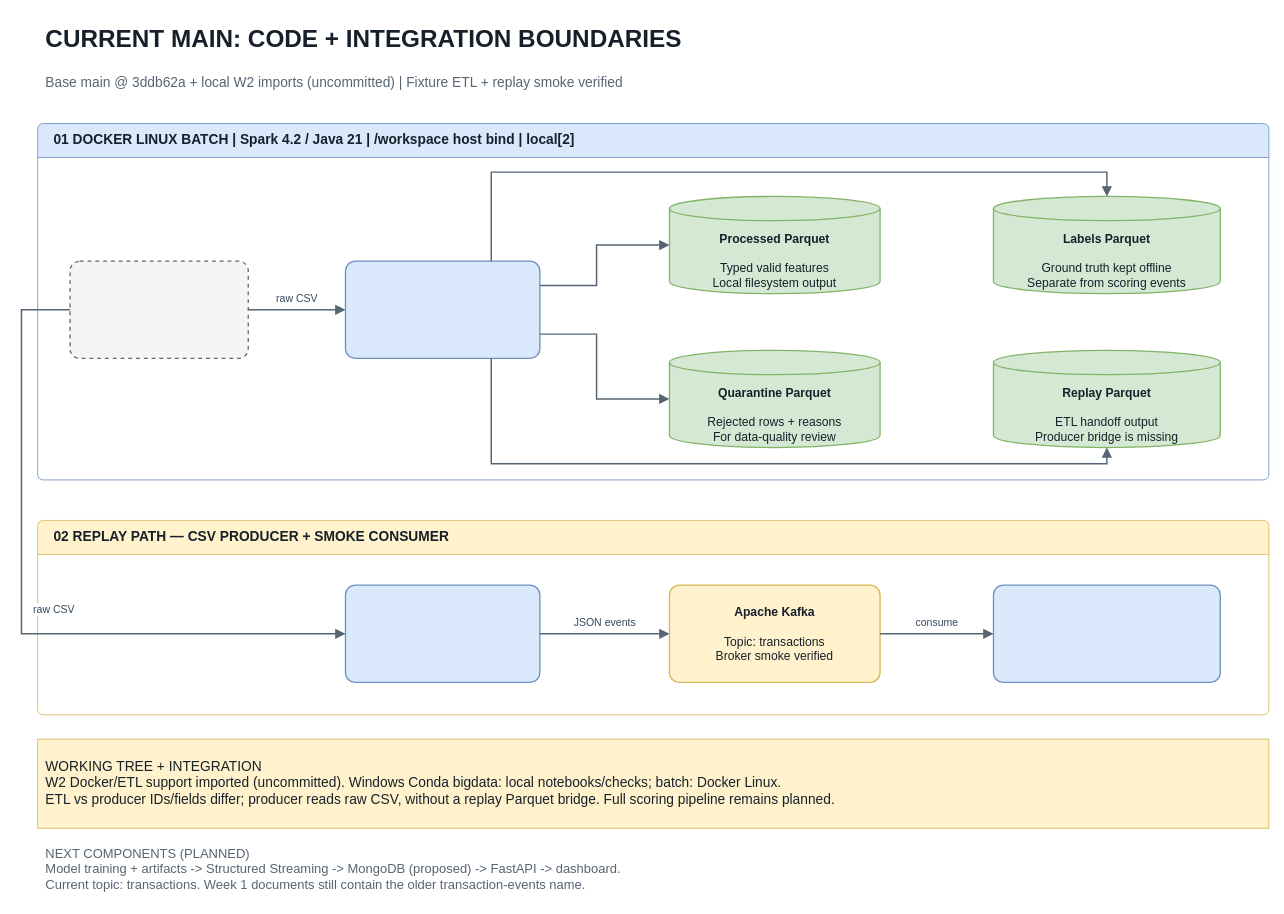
Image size: 1284x914. Some labels were removed from this diagram. The shapes that lost their labels are listed below. From the top down, each one's centre as x and y in pixels, then its label:
point (159, 309): PaySim dataset Historical / synthetic CSV Source for batch and replay
point (442, 309): Spark batch ETL Code + schema/config present Fixture ETL verified
point (442, 633): CSV replay producer Map + validate JSON events Code present
point (1106, 633): Kafka smoke consumer Read / print / count events No model inference
